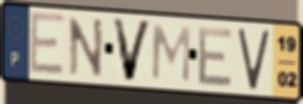E: (28, 9, 67, 77), (196, 26, 234, 88)
M: (149, 22, 192, 86)
N: (66, 16, 105, 80)
V: (110, 16, 154, 84), (236, 28, 272, 92)
